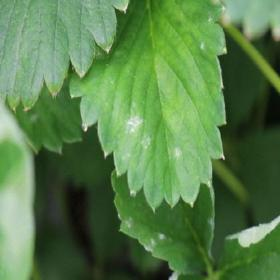Powdery Mildew Leaf: (69, 0, 228, 213), (110, 169, 218, 275), (215, 217, 279, 279)
